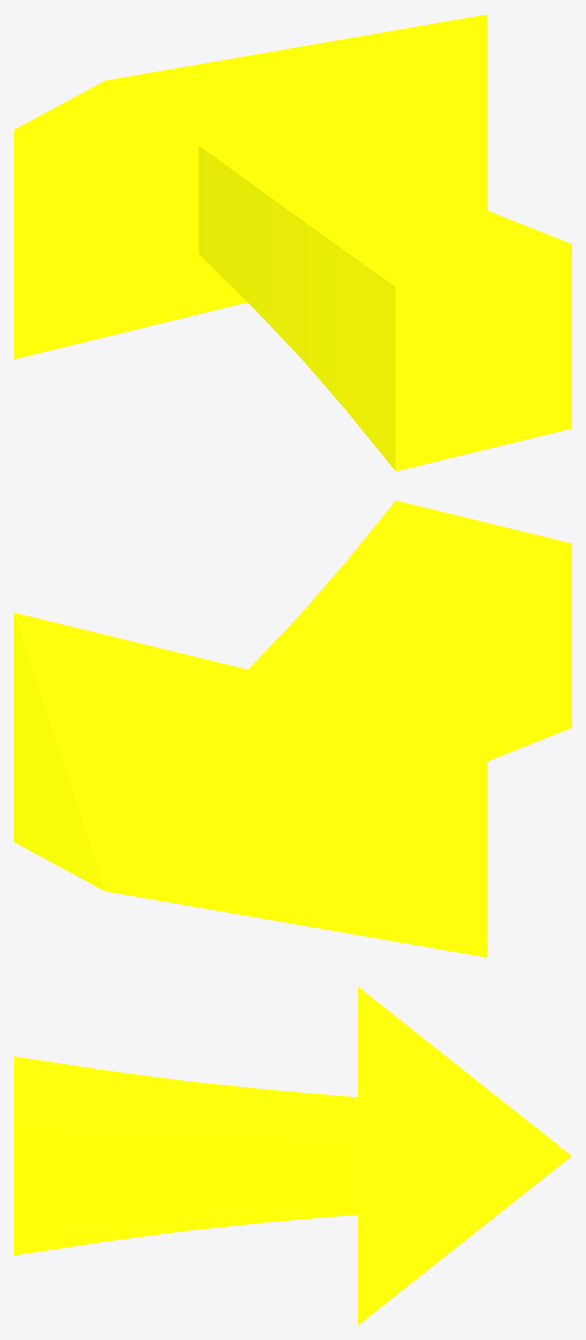
Rendered from Arrow.fbx.
The picture shows the model from 3 angles, top to bottom: view 1: azimuth 30°, elevation 25°; view 2: azimuth 150°, elevation 25°; view 3: azimuth 270°, elevation 25°; orthographic projection. The views are drawn at different scales.
Parts seen in each view (by area): view 1: Cube; view 2: Cube; view 3: Cube.
Boxes of the visible parts, x1,y1,x2,y2 form: Cube: [14, 14, 571, 471]; Cube: [14, 500, 571, 957]; Cube: [14, 986, 571, 1325].
Bounding box in the file's own units: 537 × 249 × 744.
